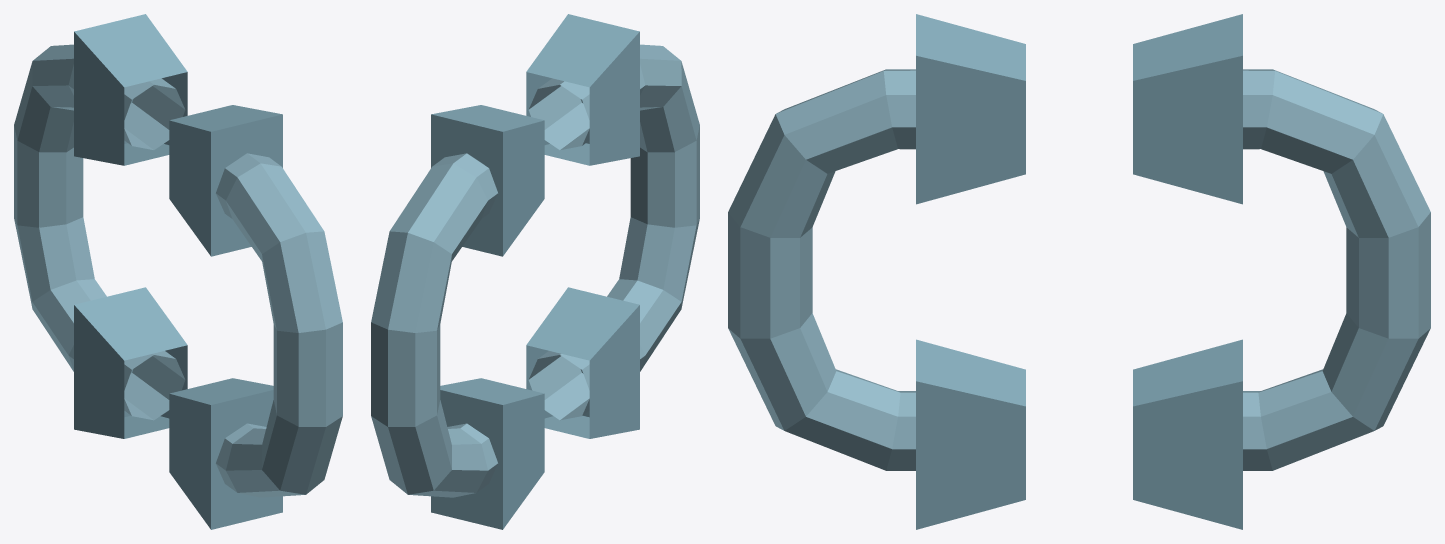
The model's file is DoorHandle00.fbx.
3 views of the same model, side by side, from view 1: azimuth 30°, elevation 25°; view 2: azimuth 150°, elevation 25°; view 3: azimuth 270°, elevation 25° (orthographic). The views are drawn at different scales.
Parts seen in each view (by area): view 1: DoorHandle00; view 2: DoorHandle00; view 3: DoorHandle00.
Boxes of the visible parts, box(x1,y1,x2,y2) form: DoorHandle00: box(14, 14, 342, 529); DoorHandle00: box(371, 14, 699, 529); DoorHandle00: box(728, 14, 1430, 529).
Size of the model in its own units: 2.12 by 11.22 by 15.07.
